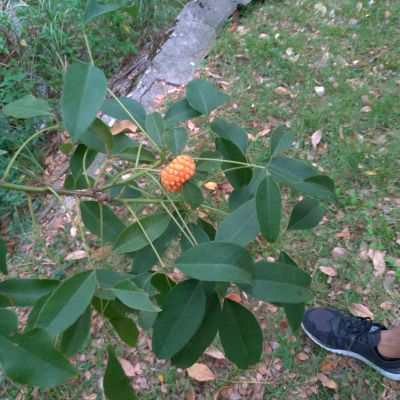eggs: (156, 151, 200, 190)
